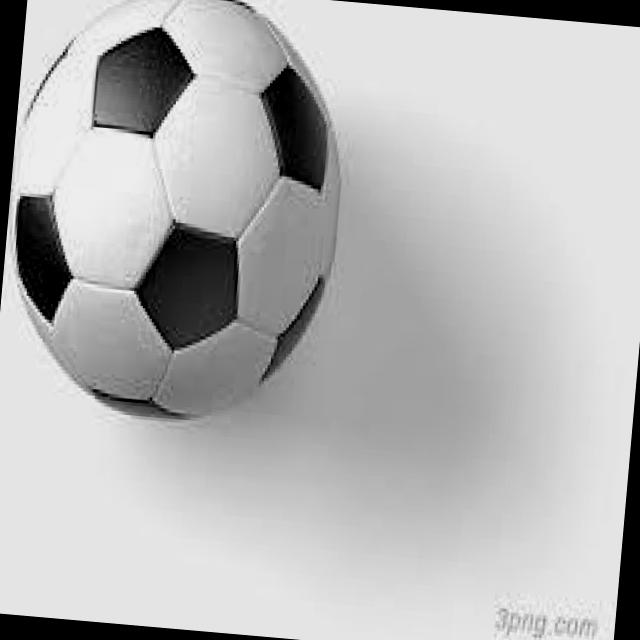Soccer Ball: (0, 0, 359, 431)
